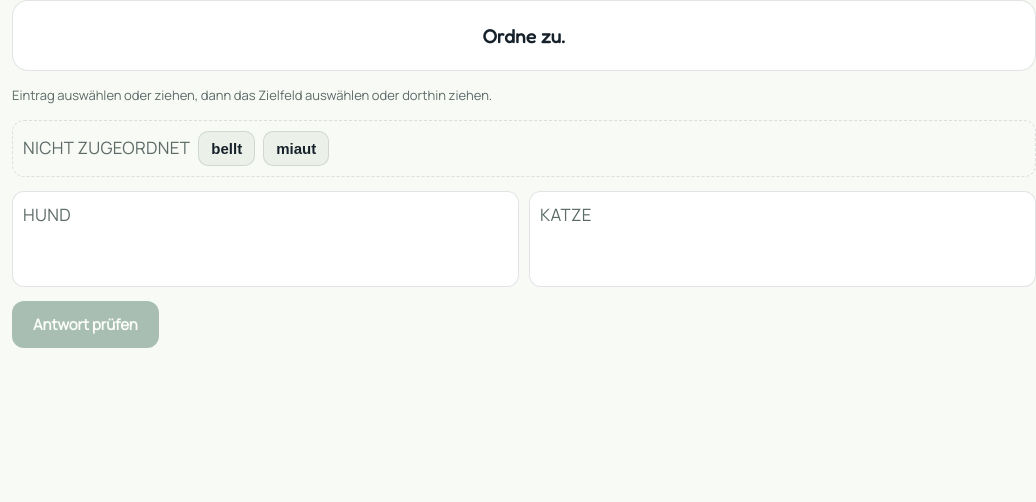
Test case: MatchingStep: Rückmeldung mit Lösung › nennt bei vollständig richtiger Zuordnung keine Korrektur, aber die Erklärung
Click the button "bellt".
click(227, 148)  # box [198, 131, 255, 166]
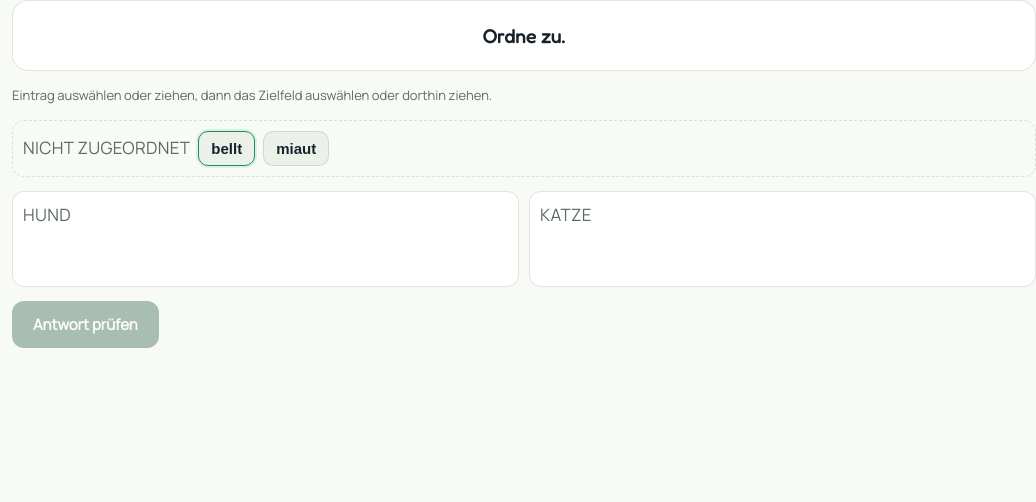
Click the button "Hund".
click(47, 214)  # box [23, 202, 508, 228]
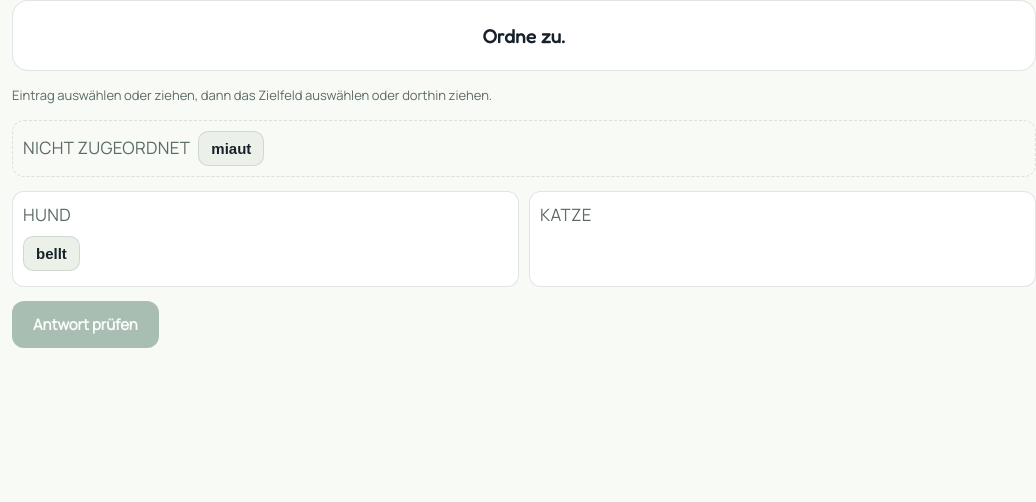
Click the button "miaut".
click(231, 148)  # box [198, 131, 264, 166]
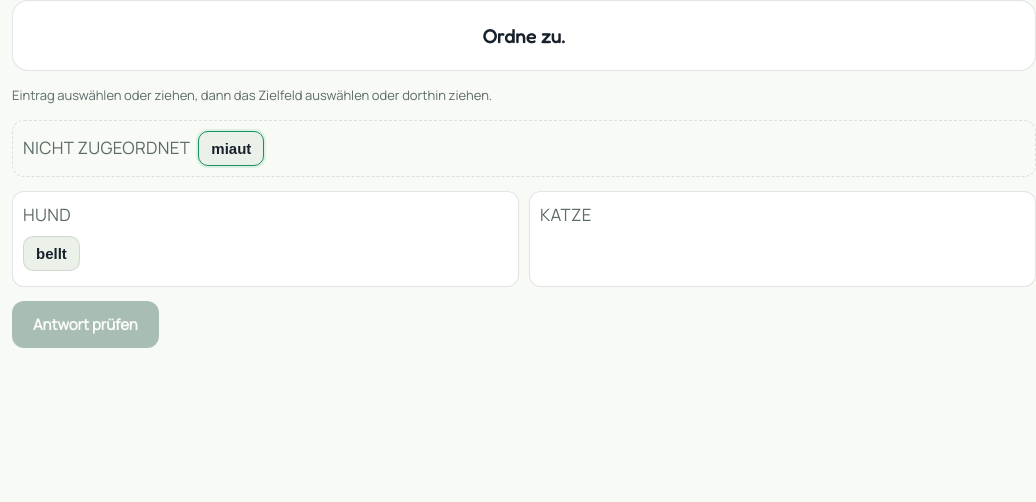
Click the button "Katze".
click(566, 214)  # box [540, 202, 1025, 228]
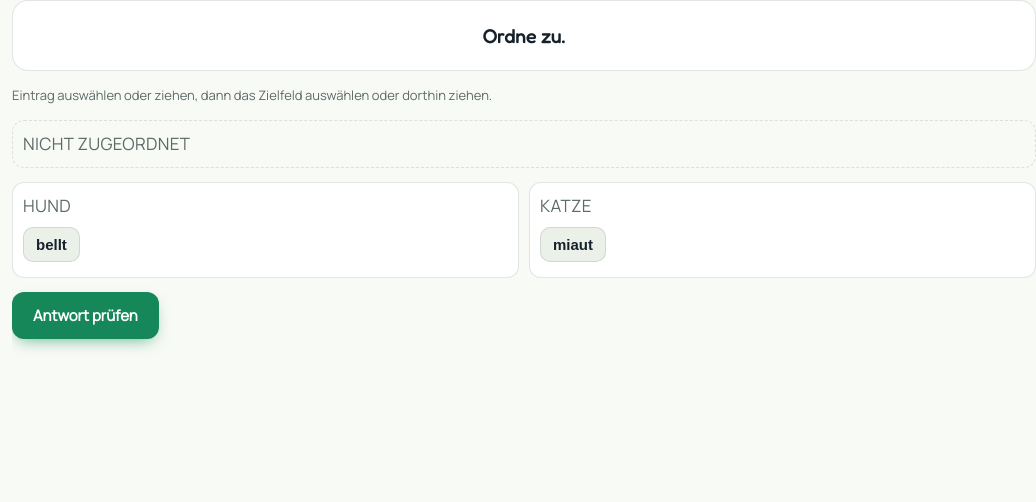
Click the button "Antwort prüfen".
click(85, 315)  # box [12, 292, 159, 339]
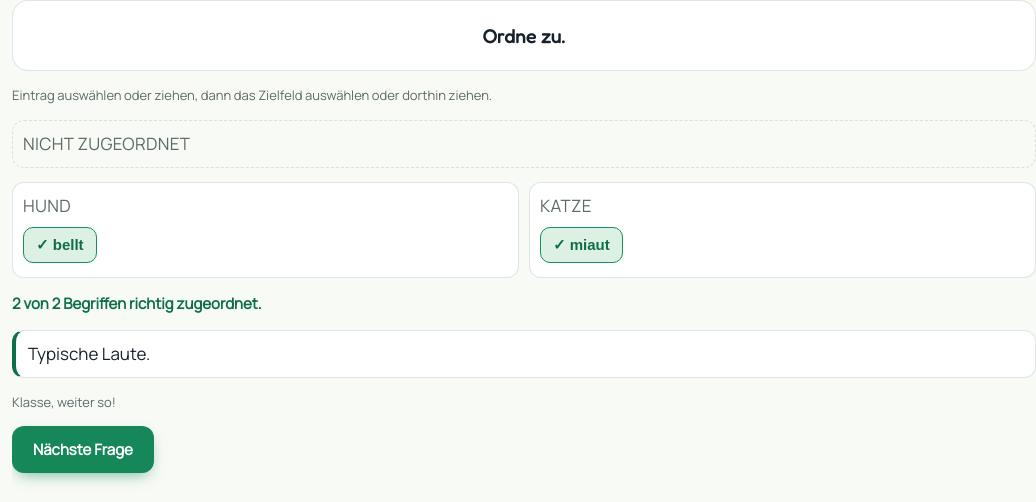
Expected: the text "2 von 2 Begriffen richtig zugeordnet." is shown, [12, 293, 262, 314]
Expected: the text "Typische Laute." is shown, [28, 342, 150, 365]
Expected: the text "✓" is shown, [36, 236, 53, 253]
